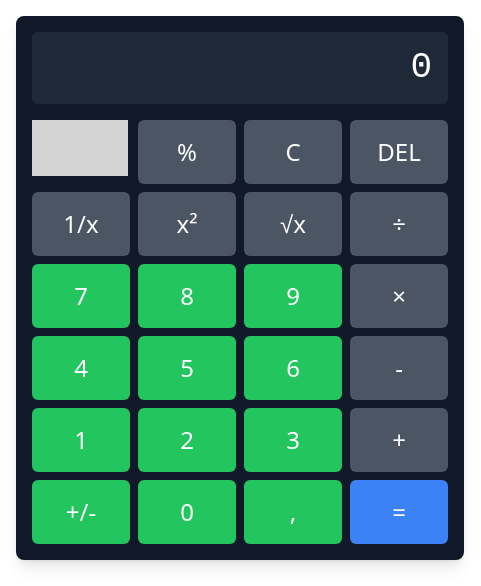
Test: Calculadora › Operació combinada
Click the button with test id "digit-5" at (187, 368), box [138,336,236,400]
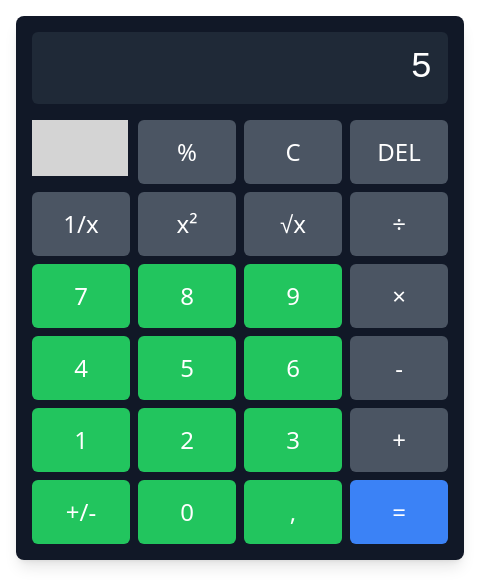
Click the button with test id "operation-add" at (399, 440), box [350,408,448,472]
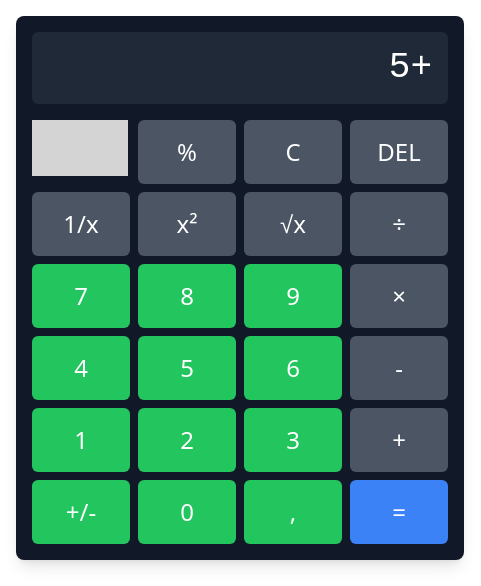
Click the button with test id "digit-3" at (293, 440), box [244,408,342,472]
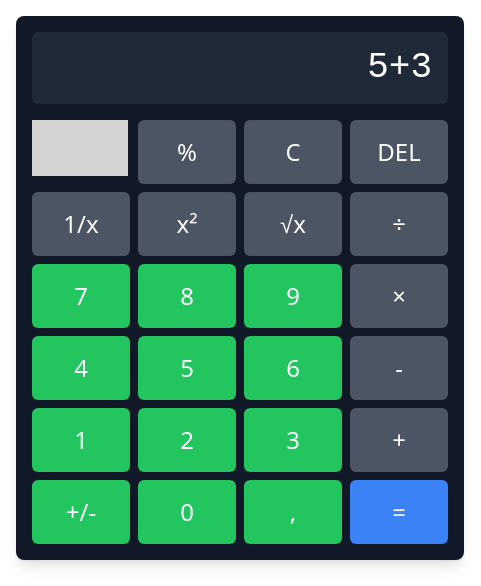
Click the button with test id "operation-multiply" at (399, 296), box [350,264,448,328]
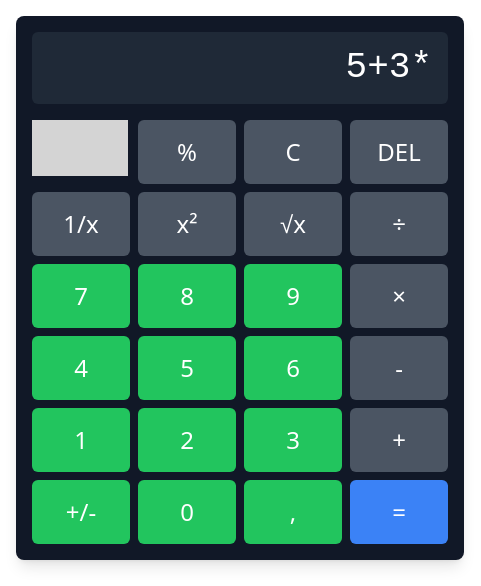
Click the button with test id "digit-2" at (187, 440), box [138,408,236,472]
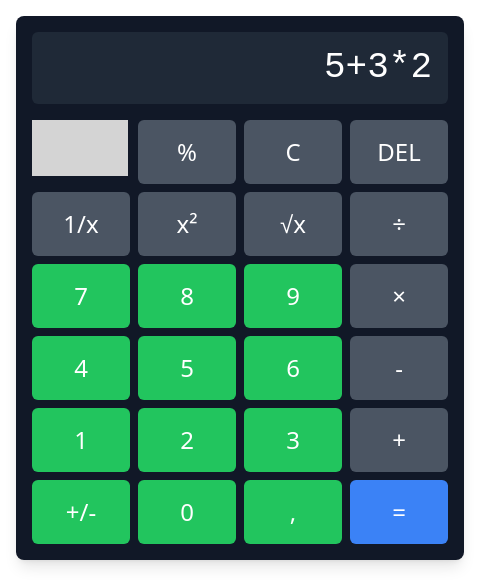
Click the button with test id "equal" at (399, 512), box [350,480,448,544]
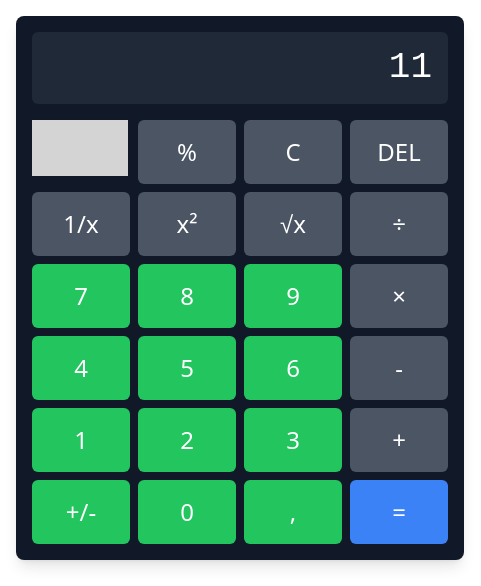
expect the text "11" is shown: met, box [389,47,432,88]
